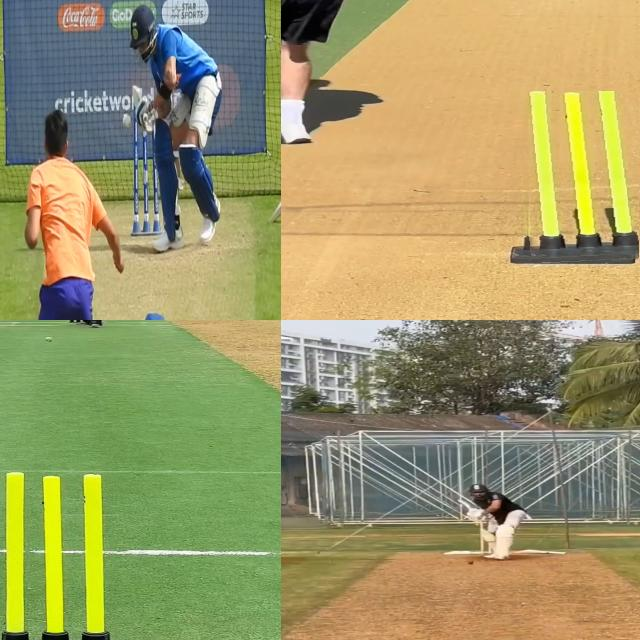Cricket ball: (120, 111, 133, 133), (42, 336, 56, 342), (466, 559, 474, 565)
Stumps: (0, 468, 136, 640), (514, 91, 639, 264)
